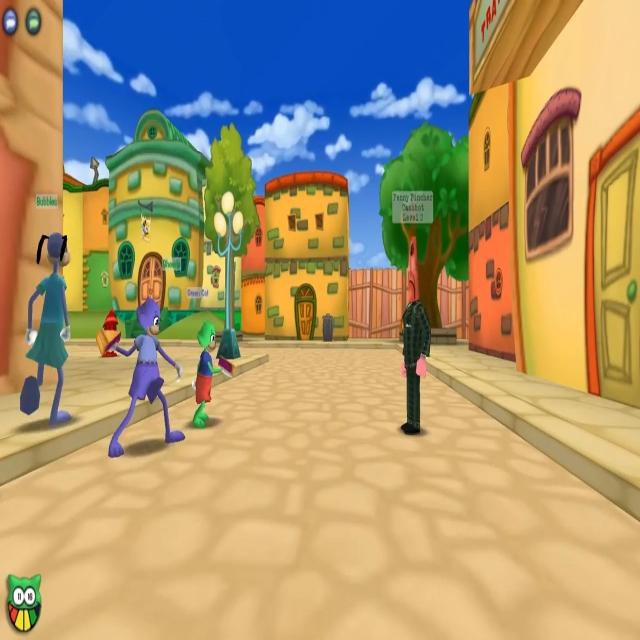pennypincher: (396, 192, 435, 437)
